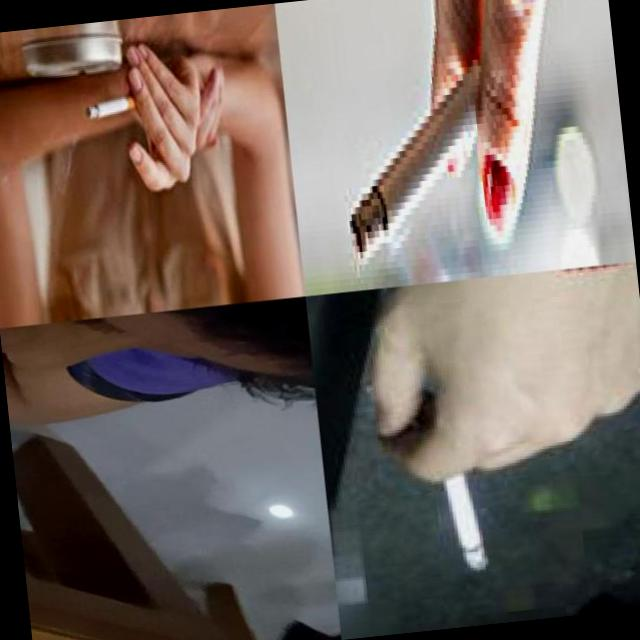cigarette: (328, 40, 530, 271), (430, 439, 490, 576), (83, 94, 139, 121)
